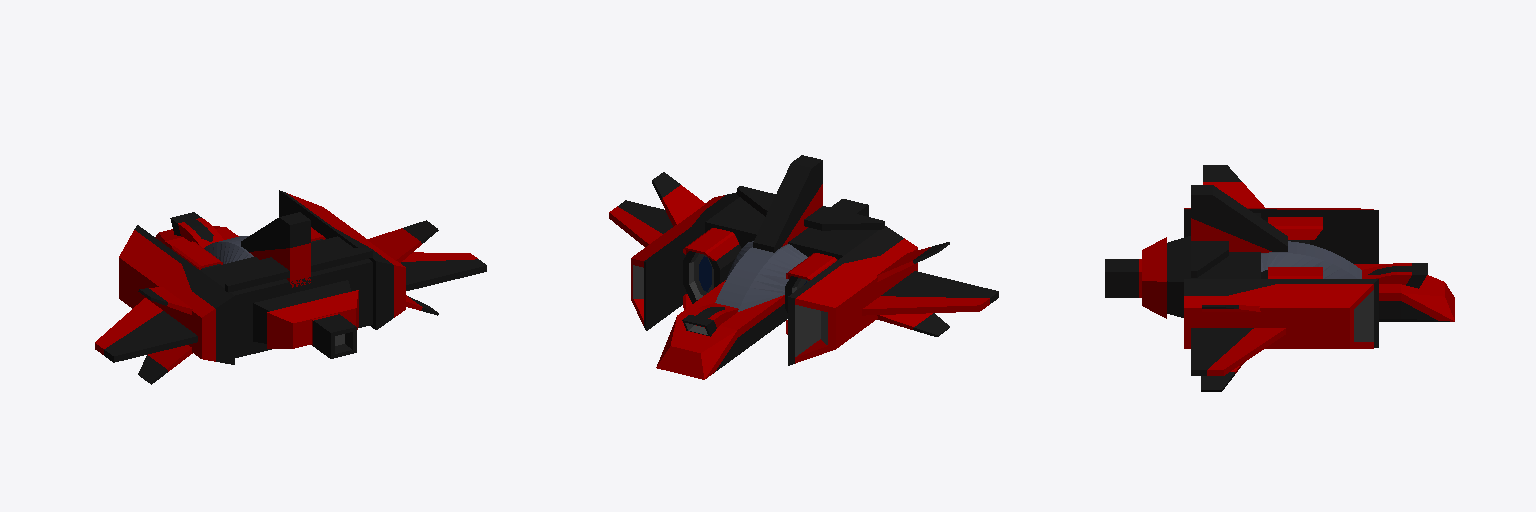
Rendered from Enemy_SpaceRush.obj.
3 renders of one model, left to right at view 1: azimuth 30°, elevation 25°; view 2: azimuth 150°, elevation 25°; view 3: azimuth 270°, elevation 25°, orthographic.
Parts seen in each view (by area): view 1: engine_intake_4, plane_rudderLarge_18, plane_body_0, engine_default_19, engine_intake_5, wing_endLong_13, wing_endLong_17, engine_plane_20, wing_diagonalFin_15, engine_intakeArrow_10, wing_diagonalFin_12, glass_curved_3 (+2 smaller); view 2: engine_intake_4, plane_rudderLarge_18, engine_intake_5, wing_endLong_13, glass_curved_3, ship_frontEdge_6, plane_body_0, engine_high_7, ship_hull_1, wing_endLong_17, wing_diagonalFin_15, engine_intakeArrow_10 (+3 smaller); view 3: engine_intake_5, plane_rudderLarge_18, engine_intake_4, engine_default_19, wing_endLong_17, ship_frontEdge_6, glass_curved_3, engine_plane_20, plane_body_0, wing_diagonalFin_11, engine_intakeArrow_10, engine_high_9 (+2 smaller).
Boxes of the visible parts, <box> form: engine_intake_4: <box>119,225,234,364</box>; plane_rudderLarge_18: <box>225,212,372,292</box>; plane_body_0: <box>200,236,372,357</box>; engine_default_19: <box>253,280,358,348</box>; engine_intake_5: <box>279,190,405,329</box>; wing_endLong_13: <box>95,298,197,362</box>; wing_endLong_17: <box>401,252,486,290</box>; engine_plane_20: <box>311,313,356,358</box>; wing_diagonalFin_15: <box>367,220,438,262</box>; engine_intakeArrow_10: <box>170,212,223,247</box>; wing_diagonalFin_12: <box>138,345,192,384</box>; glass_curved_3: <box>204,236,253,263</box>; engine_intake_4: <box>788,226,917,365</box>; plane_rudderLarge_18: <box>737,155,884,252</box>; engine_intake_5: <box>631,192,738,330</box>; wing_endLong_13: <box>862,271,998,315</box>; glass_curved_3: <box>715,241,807,311</box>; ship_frontEdge_6: <box>656,315,744,379</box>; plane_body_0: <box>705,197,877,259</box>; engine_high_7: <box>683,228,741,309</box>; ship_hull_1: <box>679,280,787,354</box>; wing_endLong_17: <box>609,200,672,246</box>; wing_diagonalFin_15: <box>652,172,705,226</box>; engine_intakeArrow_10: <box>682,303,738,336</box>; engine_intake_5: <box>1184,279,1378,348</box>; plane_rudderLarge_18: <box>1191,185,1287,277</box>; engine_intake_4: <box>1184,208,1378,263</box>; engine_default_19: <box>1142,236,1190,318</box>; wing_endLong_17: <box>1191,328,1285,375</box>; ship_frontEdge_6: <box>1386,275,1454,321</box>; glass_curved_3: <box>1261,241,1361,278</box>; engine_plane_20: <box>1105,259,1141,297</box>; plane_body_0: <box>1191,213,1260,278</box>; wing_diagonalFin_11: <box>1203,165,1264,207</box>; engine_intakeArrow_10: <box>1362,263,1427,288</box>; engine_high_9: <box>1265,217,1322,243</box>.
Size of the model in its own units: 6.2 by 2.09 by 5.04.